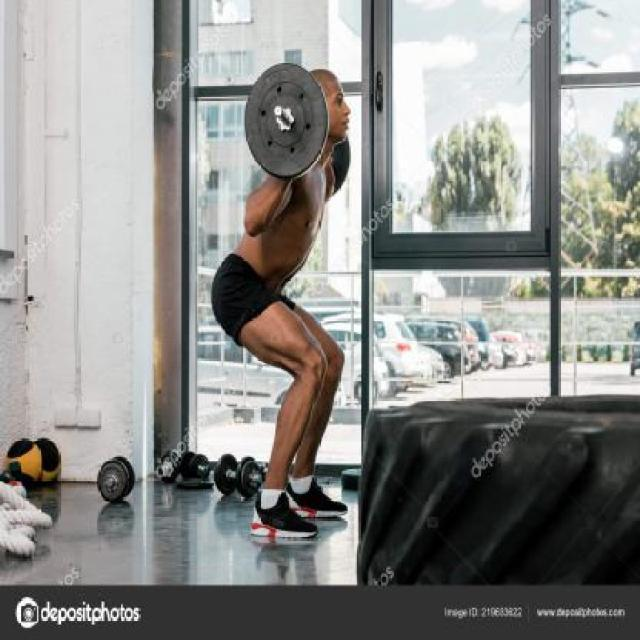barbell: (243, 60, 336, 189)
